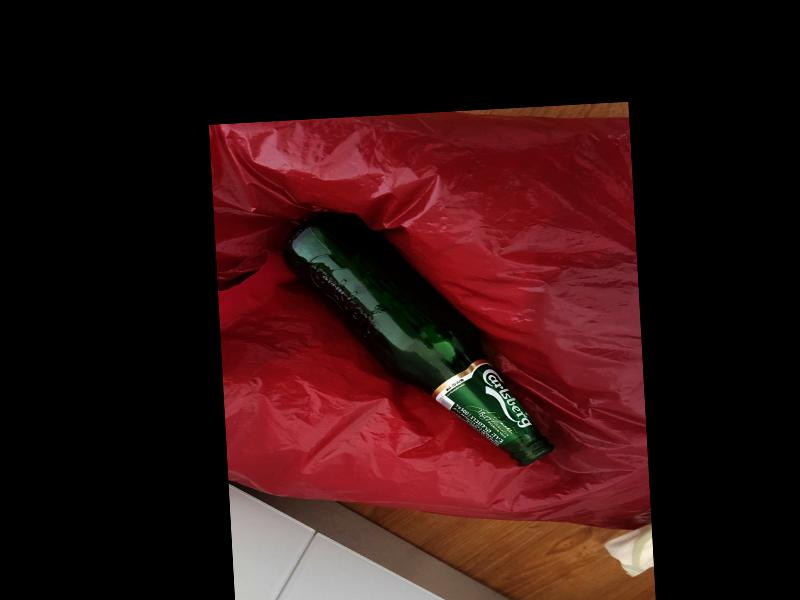Beer: (284, 202, 555, 478)
